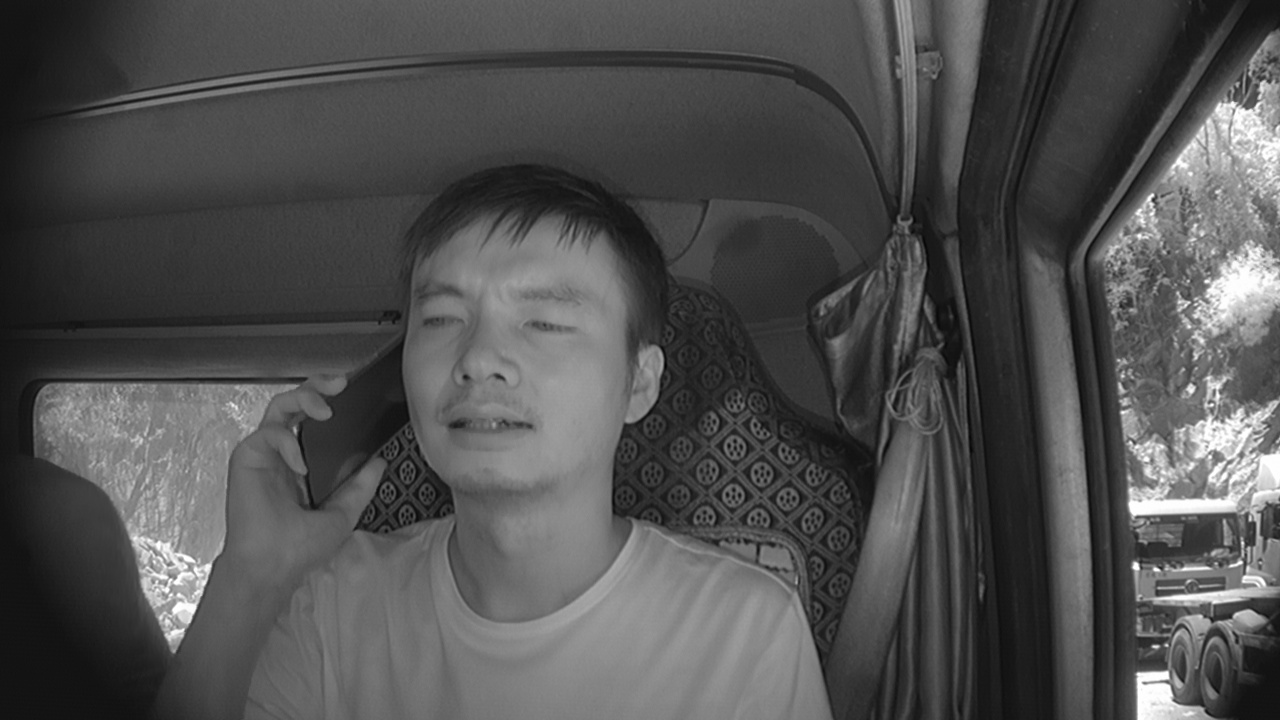hand: (214, 365, 389, 588)
